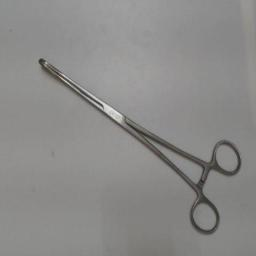Sponge Forceps: (34, 54, 248, 240)
